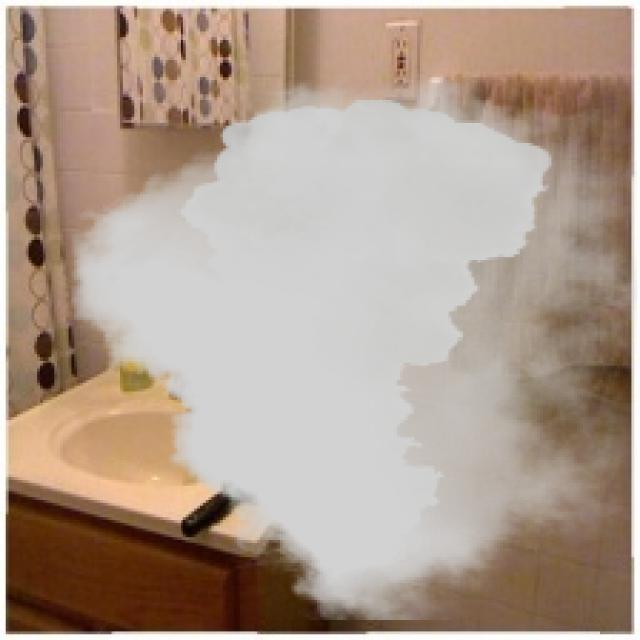smoke: (72, 74, 637, 620)
